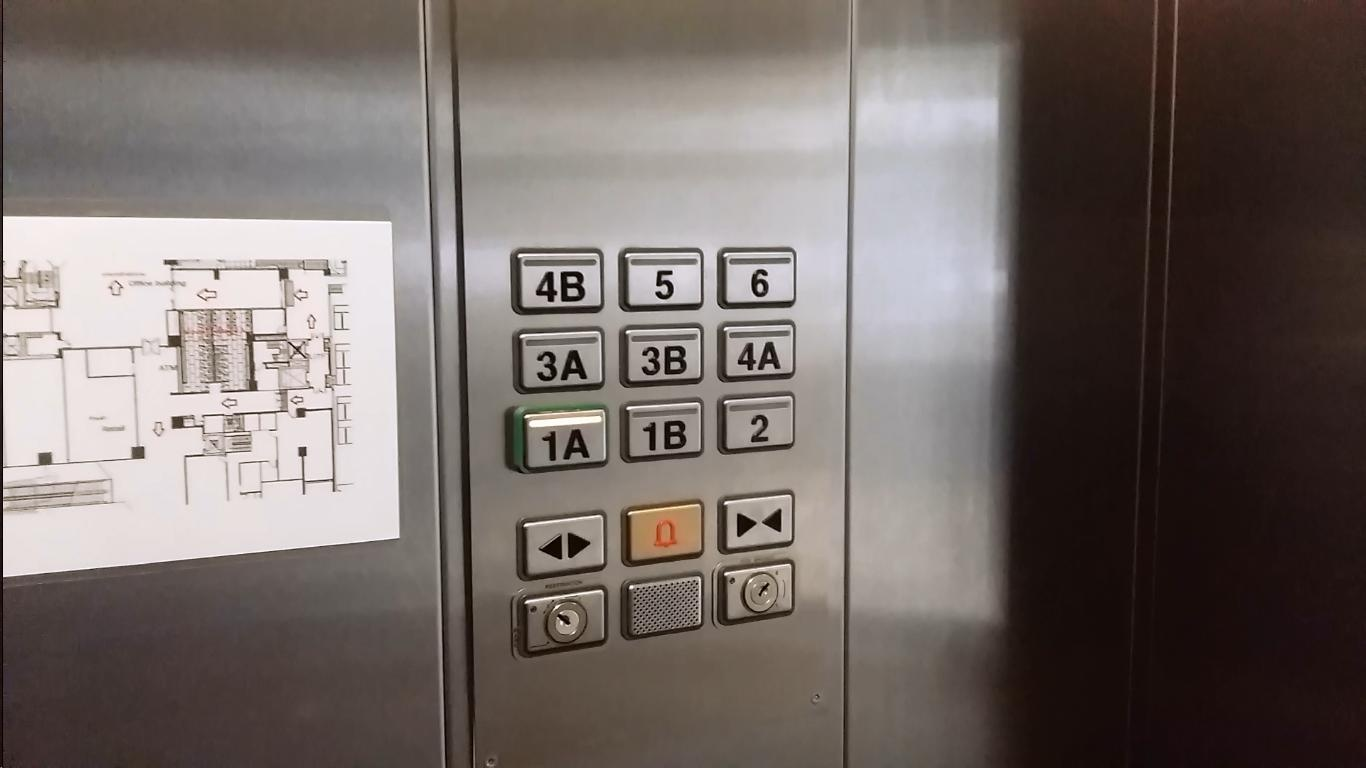1A: (506, 402, 610, 478)
1B: (617, 395, 707, 466)
2: (714, 390, 796, 457)
3A: (511, 324, 608, 397)
3B: (616, 319, 707, 391)
4A: (715, 317, 799, 383)
4B: (507, 244, 606, 318)
5: (614, 243, 708, 315)
6: (714, 244, 801, 311)
alarm: (619, 493, 708, 569)
bt_keyhole: (511, 579, 611, 665), (710, 555, 799, 630)
close: (715, 485, 800, 556)
open: (512, 506, 610, 585)
speaker: (619, 567, 708, 643)
